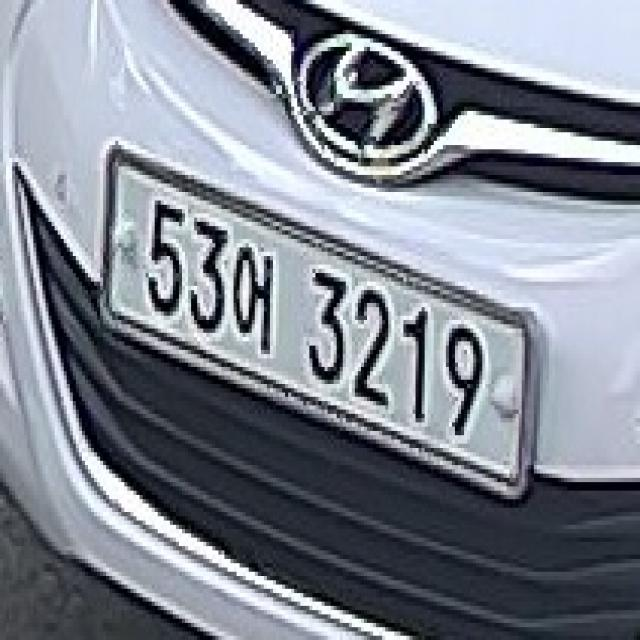1: (391, 298, 440, 439)
2: (352, 256, 391, 418)
3: (300, 248, 349, 388), (173, 196, 221, 337)
5: (140, 188, 191, 320)
9: (440, 299, 494, 452)
eo: (234, 226, 282, 359)
license_plate: (82, 128, 540, 542)
